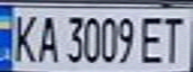0: (81, 12, 103, 64), (100, 13, 121, 64)
3: (60, 12, 84, 64)
9: (115, 14, 139, 65)
A: (33, 11, 60, 64)
E: (136, 12, 169, 65)
K: (6, 10, 39, 64)
T: (157, 12, 190, 64)
